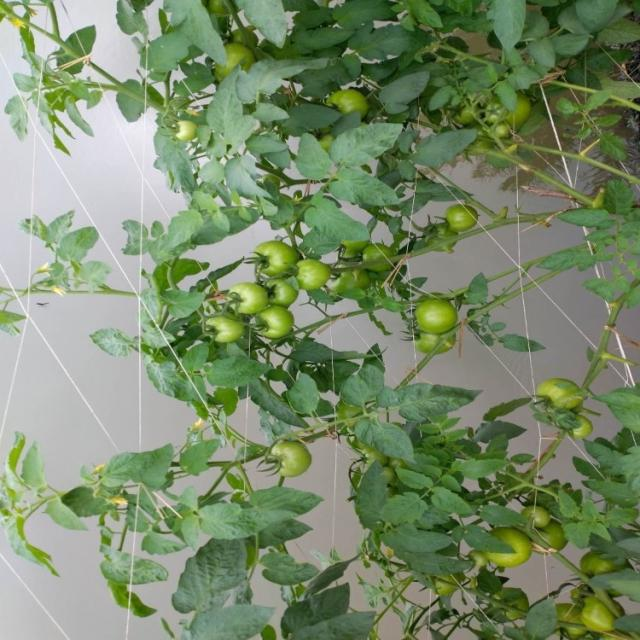tomato: (199, 302, 268, 361), (248, 222, 313, 282), (470, 86, 535, 143), (487, 522, 550, 578), (254, 263, 315, 315), (438, 191, 492, 249), (571, 584, 630, 637), (156, 114, 231, 152), (574, 537, 631, 586), (399, 292, 465, 332), (211, 39, 258, 93), (218, 264, 268, 314), (249, 288, 299, 338), (532, 374, 580, 425), (314, 87, 368, 131), (545, 594, 598, 636), (408, 323, 465, 362), (269, 432, 308, 486), (522, 491, 565, 539), (561, 404, 606, 445), (544, 517, 578, 563), (297, 242, 324, 299), (434, 568, 467, 600), (460, 548, 494, 573)
